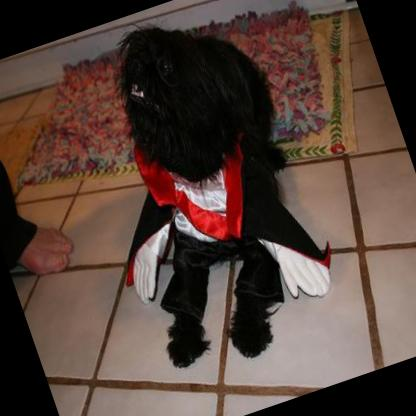affenpinscher: (66, 0, 353, 399)
